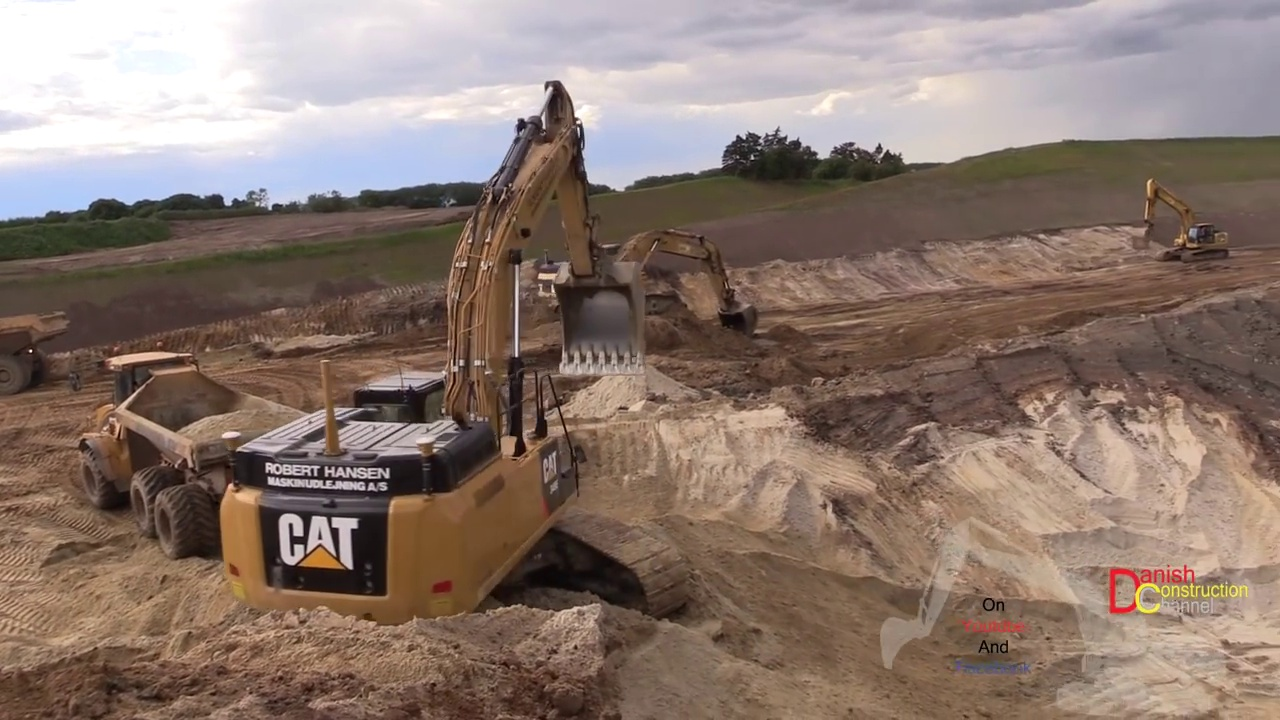dumper: (77, 349, 308, 568), (1, 309, 68, 399)
excavator: (219, 75, 695, 634), (546, 217, 763, 352), (1131, 170, 1236, 266)
